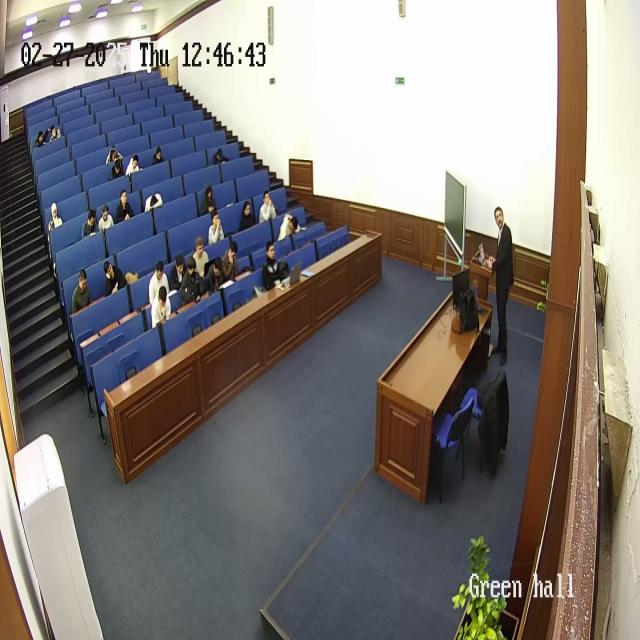person: (488, 207, 514, 360), (261, 239, 283, 291), (180, 258, 203, 305), (71, 267, 93, 313), (148, 259, 170, 305), (150, 284, 172, 328), (104, 259, 125, 297), (203, 258, 224, 296), (190, 236, 208, 280), (220, 239, 238, 283), (169, 252, 187, 294), (115, 189, 134, 223), (278, 211, 299, 241), (206, 210, 224, 243), (258, 190, 276, 222), (96, 203, 115, 232), (80, 208, 98, 237), (201, 184, 217, 215), (240, 200, 256, 230), (48, 200, 64, 229), (144, 191, 162, 213), (125, 154, 140, 177), (105, 145, 121, 166), (110, 158, 123, 180), (153, 145, 165, 165), (34, 128, 46, 148), (48, 123, 60, 142), (213, 148, 227, 164)
